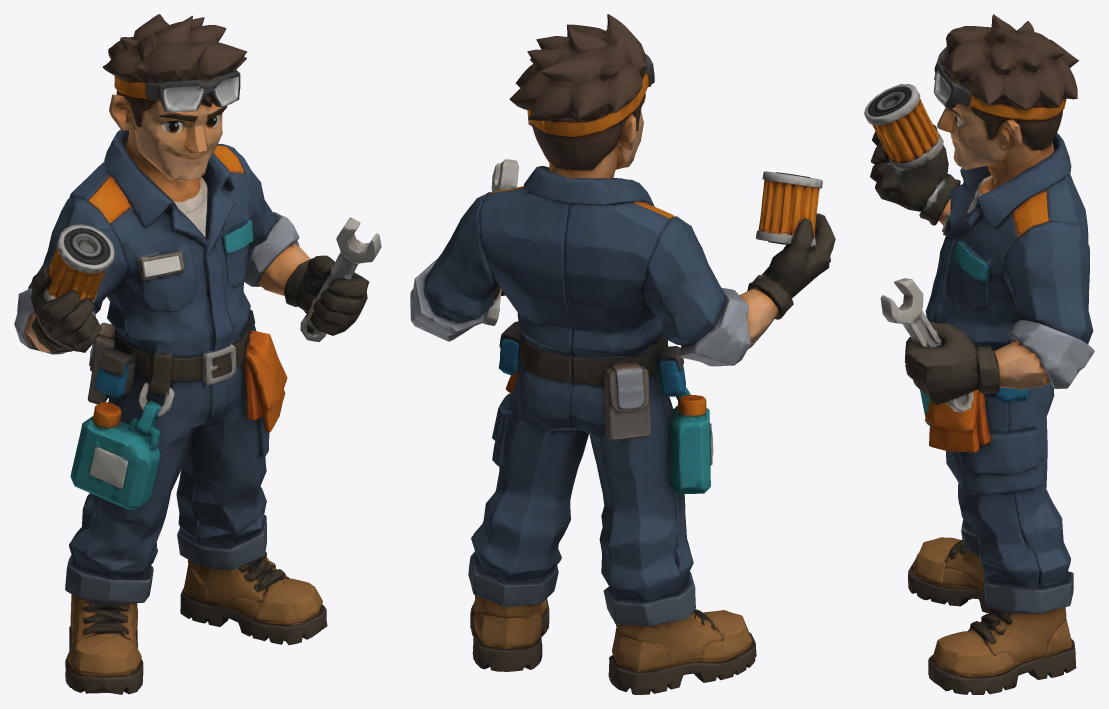
Rendered from change_bay_character_1k_real.glb.
The picture shows the model from 3 angles, left to right: view 1: azimuth 30°, elevation 25°; view 2: azimuth 150°, elevation 25°; view 3: azimuth 270°, elevation 25°; orthographic projection. The views are drawn at different scales.
Parts seen in each view (by area): view 1: tripo_node_2e6899d7-7a49-453c-bafd-5324ac32b39a; view 2: tripo_node_2e6899d7-7a49-453c-bafd-5324ac32b39a; view 3: tripo_node_2e6899d7-7a49-453c-bafd-5324ac32b39a.
Boxes of the visible parts, box(x1,y1,x2,y2) form: tripo_node_2e6899d7-7a49-453c-bafd-5324ac32b39a: box(14, 14, 381, 694); tripo_node_2e6899d7-7a49-453c-bafd-5324ac32b39a: box(410, 14, 835, 694); tripo_node_2e6899d7-7a49-453c-bafd-5324ac32b39a: box(864, 14, 1094, 694).
Bounding box in the file's own units: 0.5776 × 1 × 0.3418.
1 material, 1 textured.
